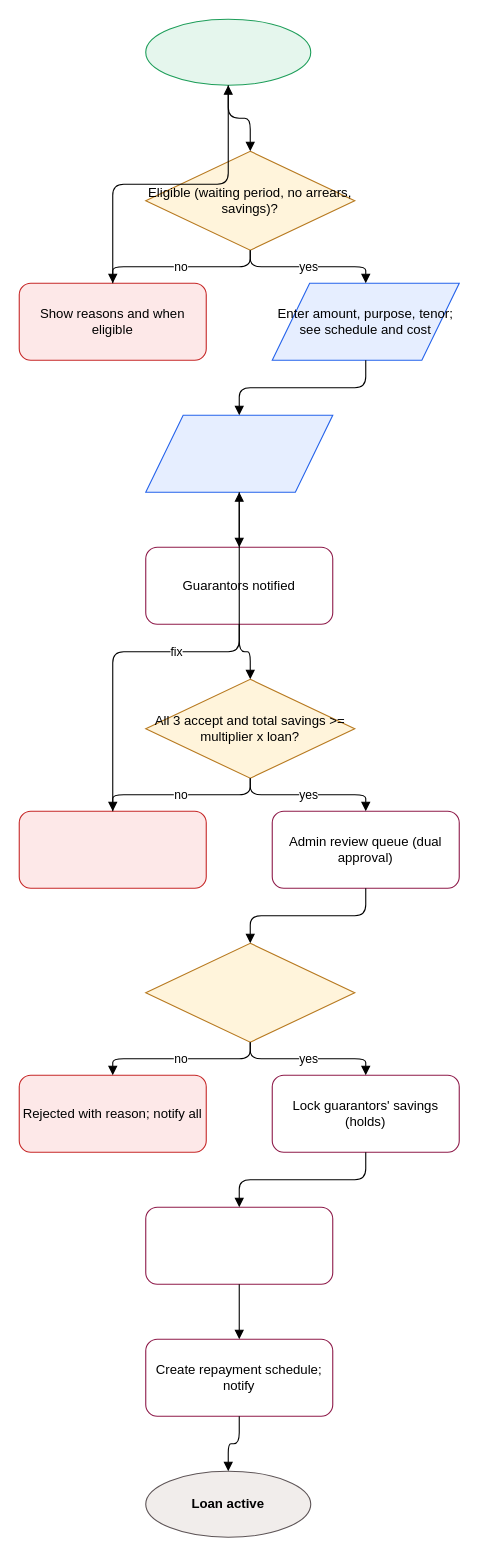
Some shapes in this 479 by 1557 pixel diagram are drawn without their labels. The box of each missing label's shape, as (x1, y1, x2, y2) in pixels:
Approved?: (145, 942, 355, 1042)
Choose 3 guarantors: (145, 414, 333, 492)
Declined/expired/insufficient: add or replace guarantor: (18, 810, 206, 888)
Disburse from cooperative account to member account: (145, 1206, 333, 1284)
Member opens Loans: (145, 18, 311, 85)
